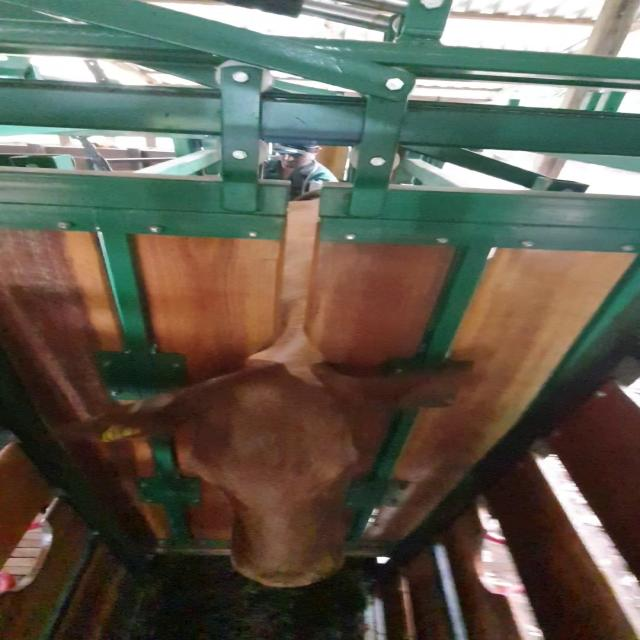cowFace: (188, 372, 359, 588)
